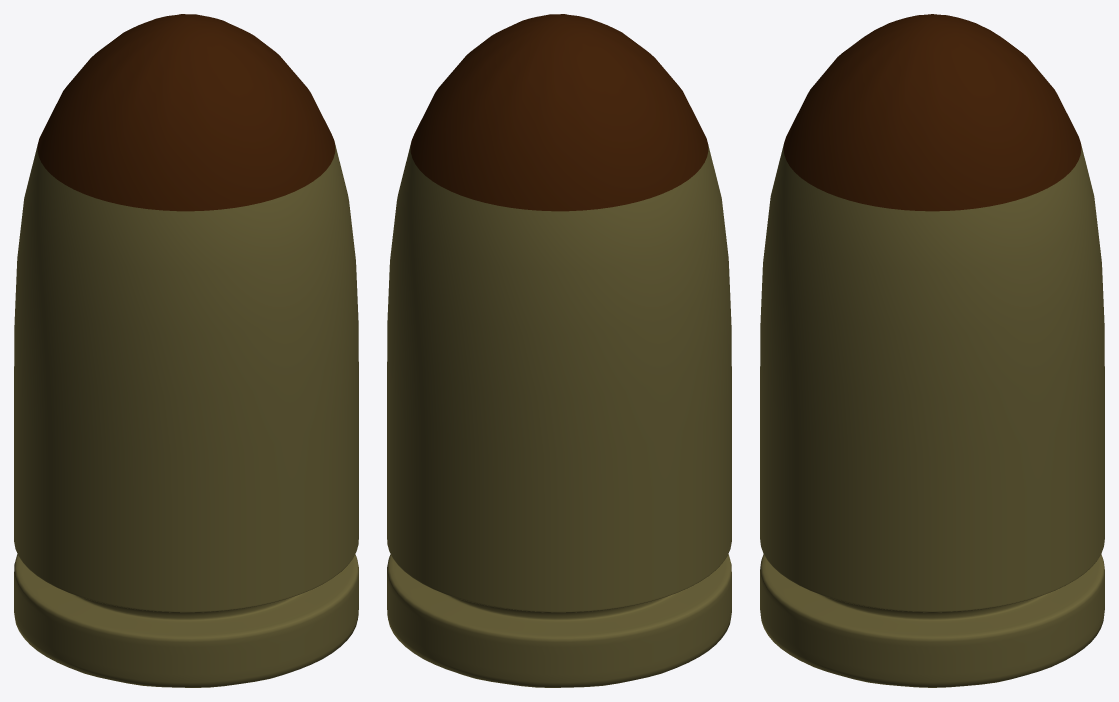
File: revolver_bullet 1.fbx
3 renders of one model, left to right at view 1: azimuth 30°, elevation 25°; view 2: azimuth 150°, elevation 25°; view 3: azimuth 270°, elevation 25°, orthographic.
Visible parts, largest first — view 1: Cylinder; view 2: Cylinder; view 3: Cylinder.
Boxes of the visible parts, x1=… form: Cylinder: x1=14, y1=14, x2=358, y2=687; Cylinder: x1=387, y1=14, x2=731, y2=687; Cylinder: x1=760, y1=14, x2=1104, y2=687.
Size of the model in its own units: 195 by 373 by 195.
